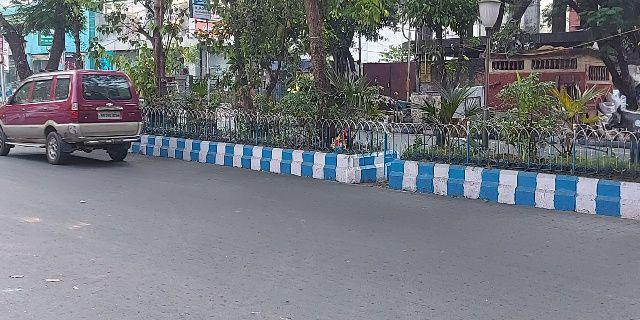Car: (1, 68, 144, 168)
